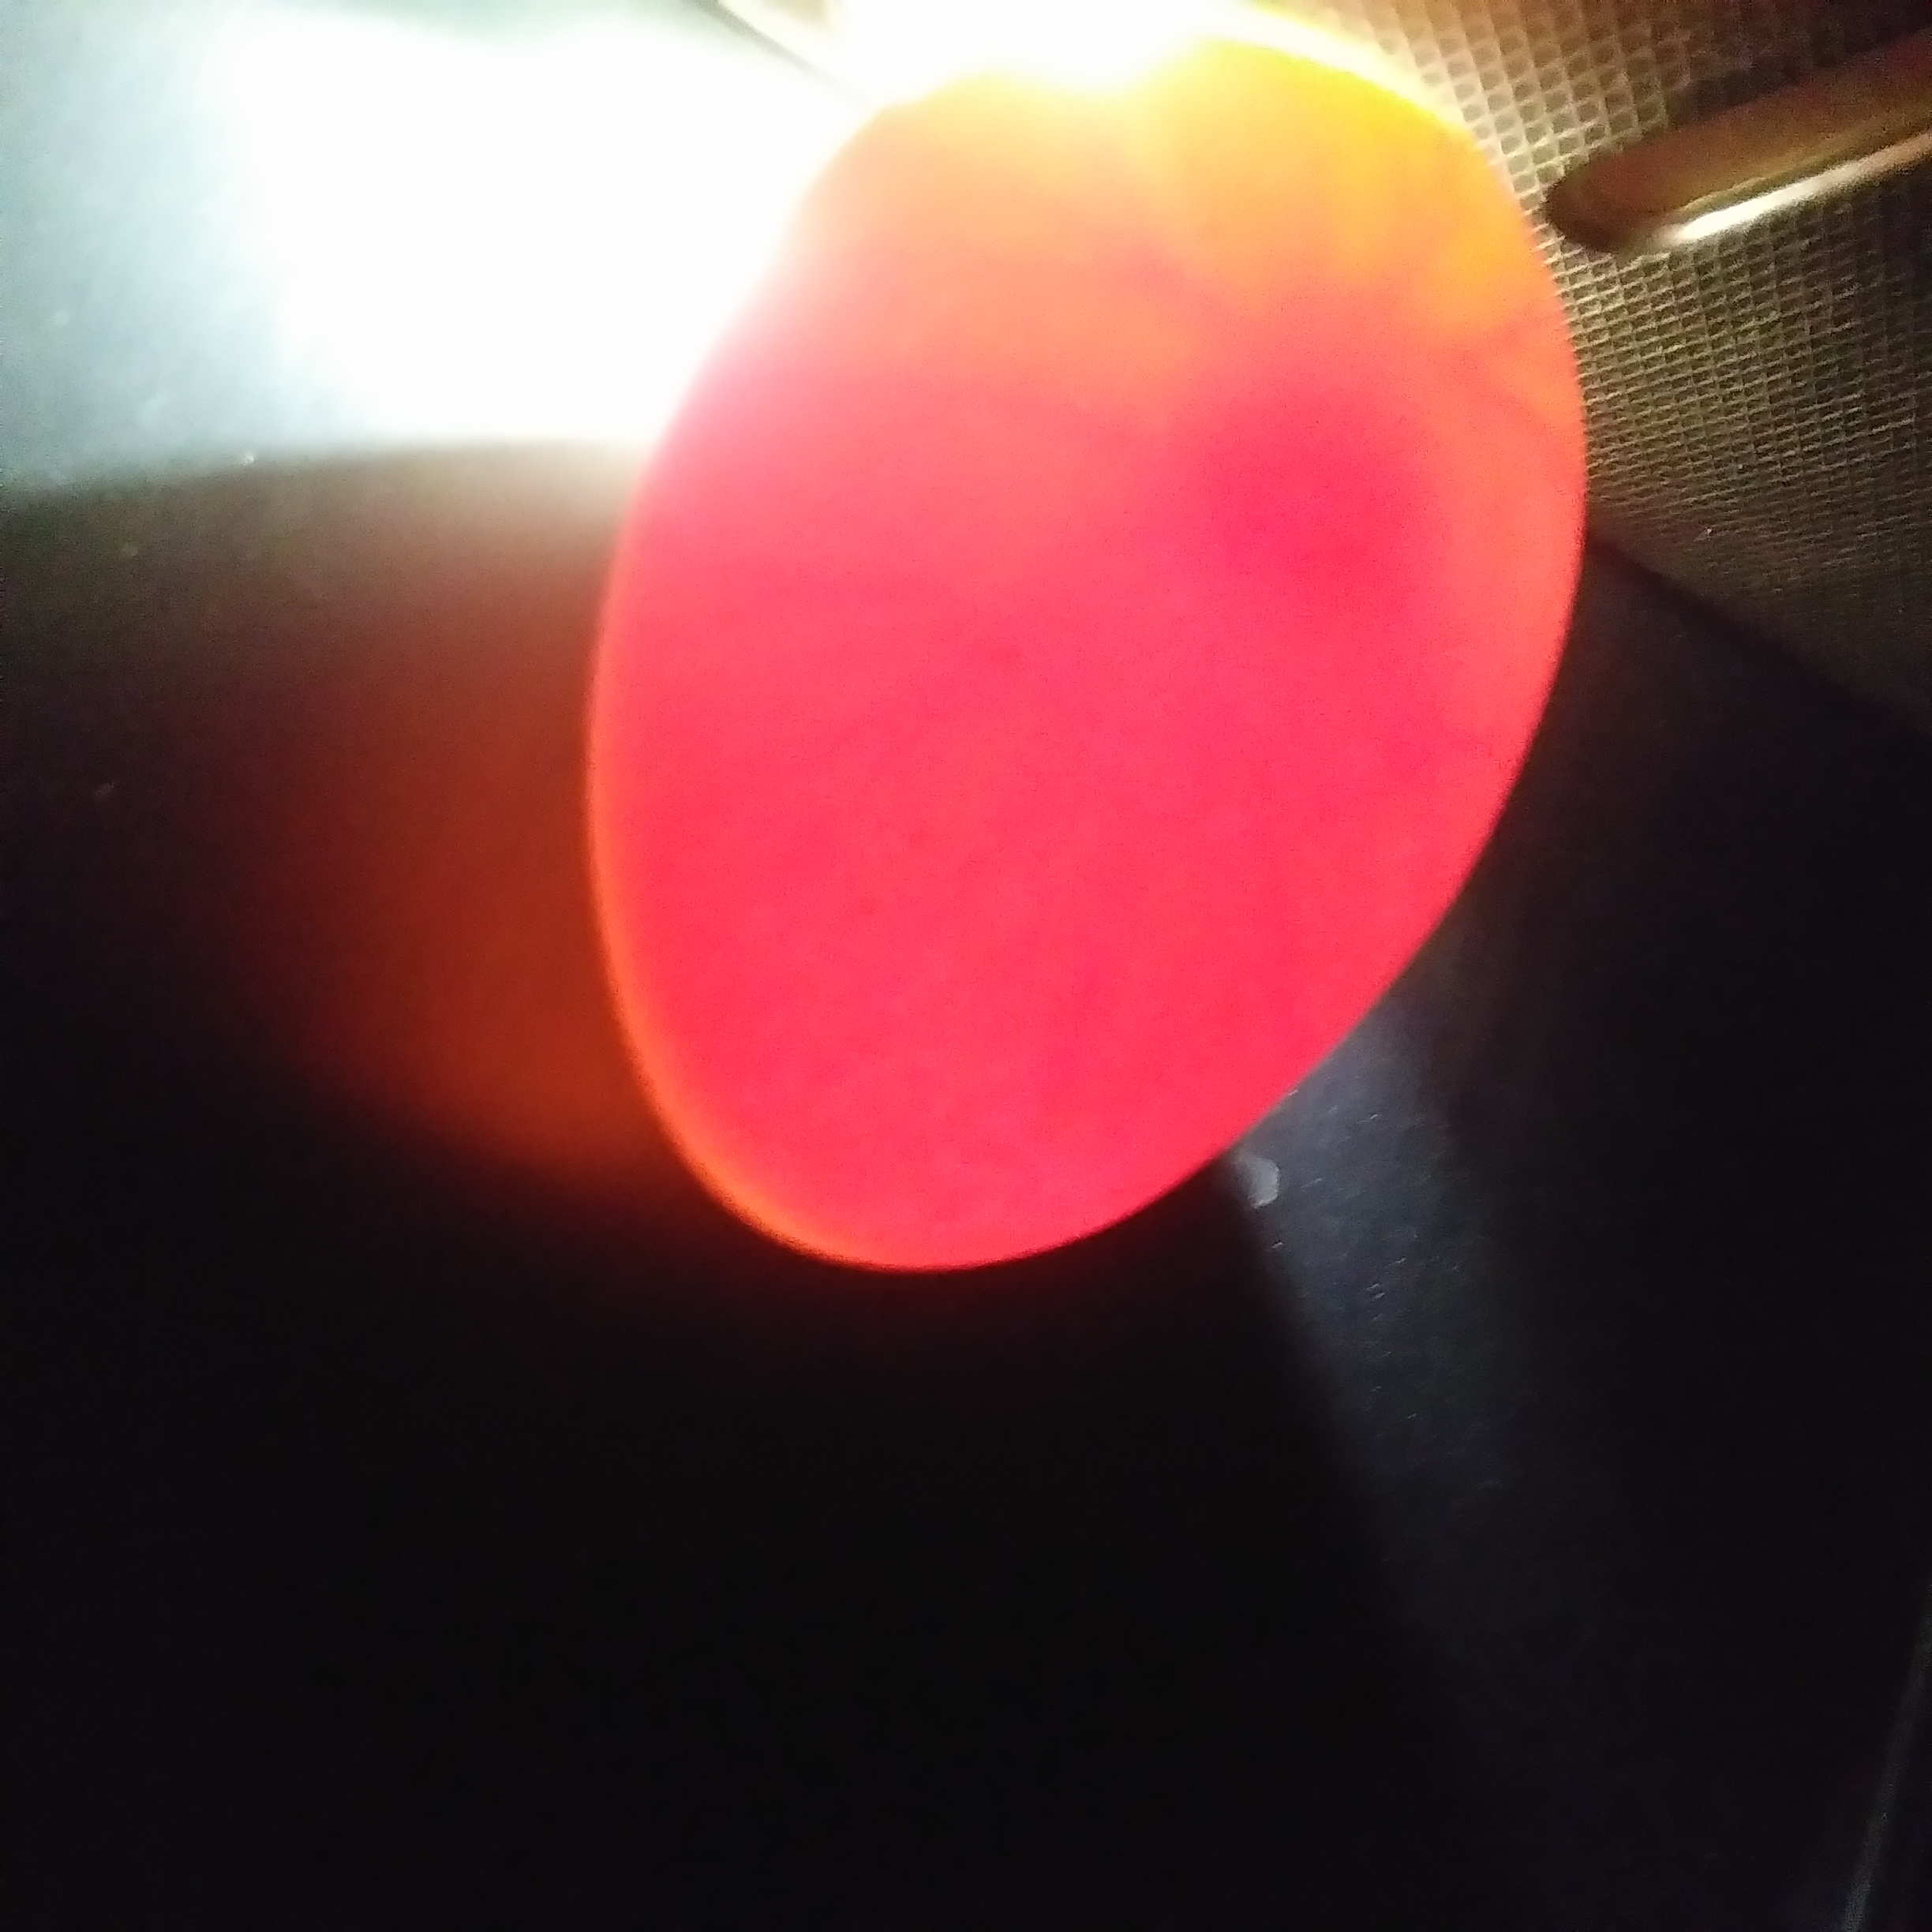bloodcell: (1169, 127, 1463, 343)
